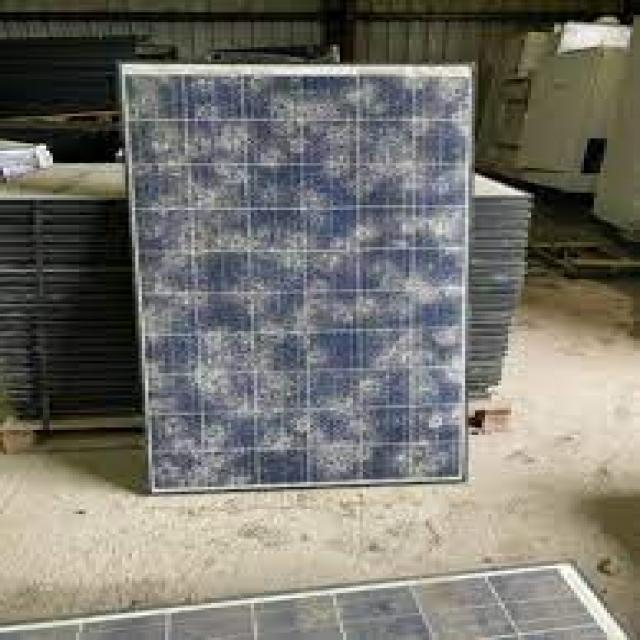faulty: (129, 67, 472, 489)
